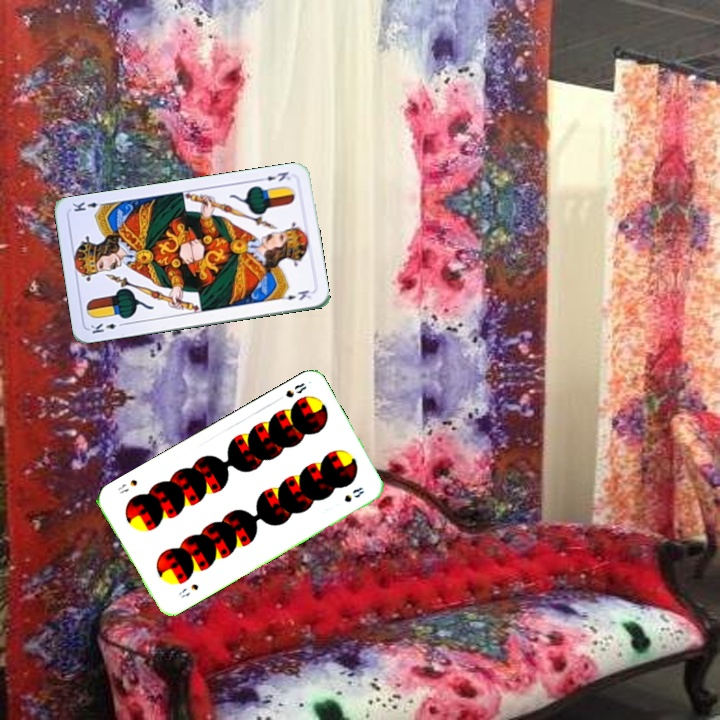EK: (86, 319, 127, 336), (255, 168, 293, 184)
S8: (272, 379, 310, 404), (174, 580, 201, 600)
